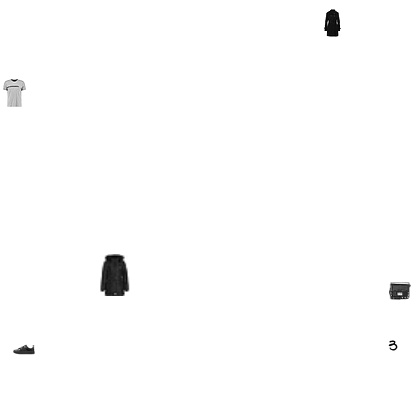3: (386, 338, 400, 352)
Bag: (389, 280, 411, 302)
Coat: (93, 254, 135, 296), (318, 9, 346, 37)
Sneaker: (13, 338, 35, 360)
T-shirt/top: (0, 79, 28, 107)
